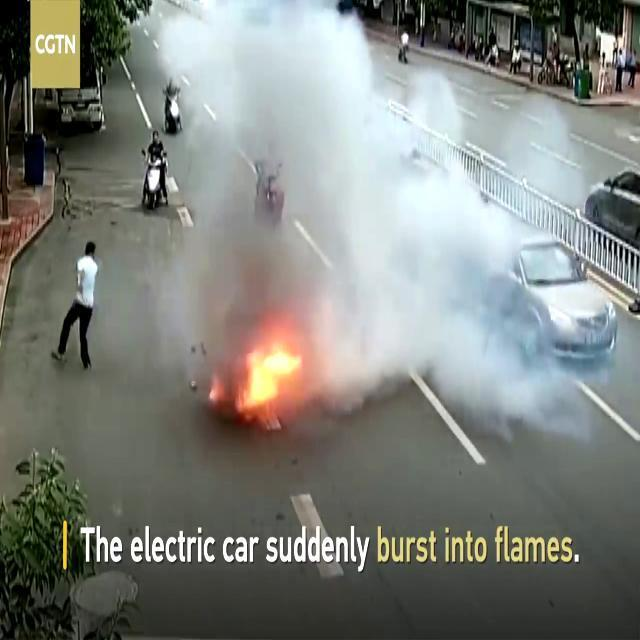Fire: (224, 336, 305, 411)
Smoke: (181, 15, 541, 409)
